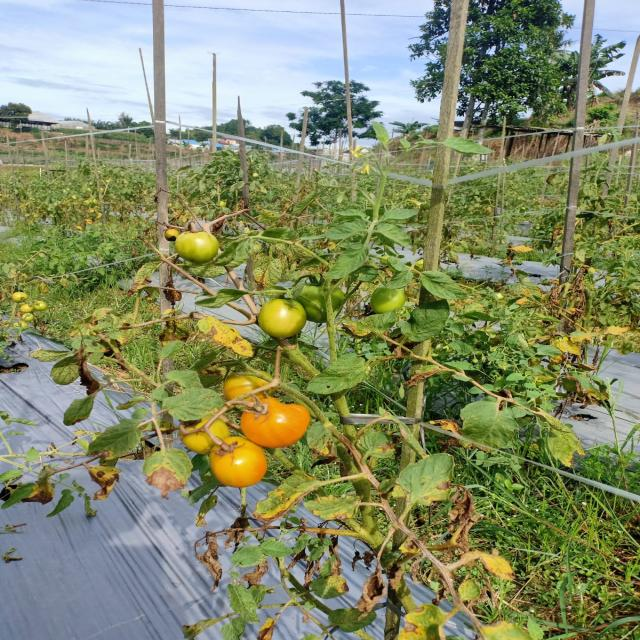ripe tomato: (239, 397, 310, 448), (208, 436, 267, 488), (296, 282, 345, 324), (180, 416, 230, 454), (222, 374, 271, 404)
unripe tomato: (257, 298, 306, 340), (173, 230, 219, 264), (369, 285, 405, 313)
